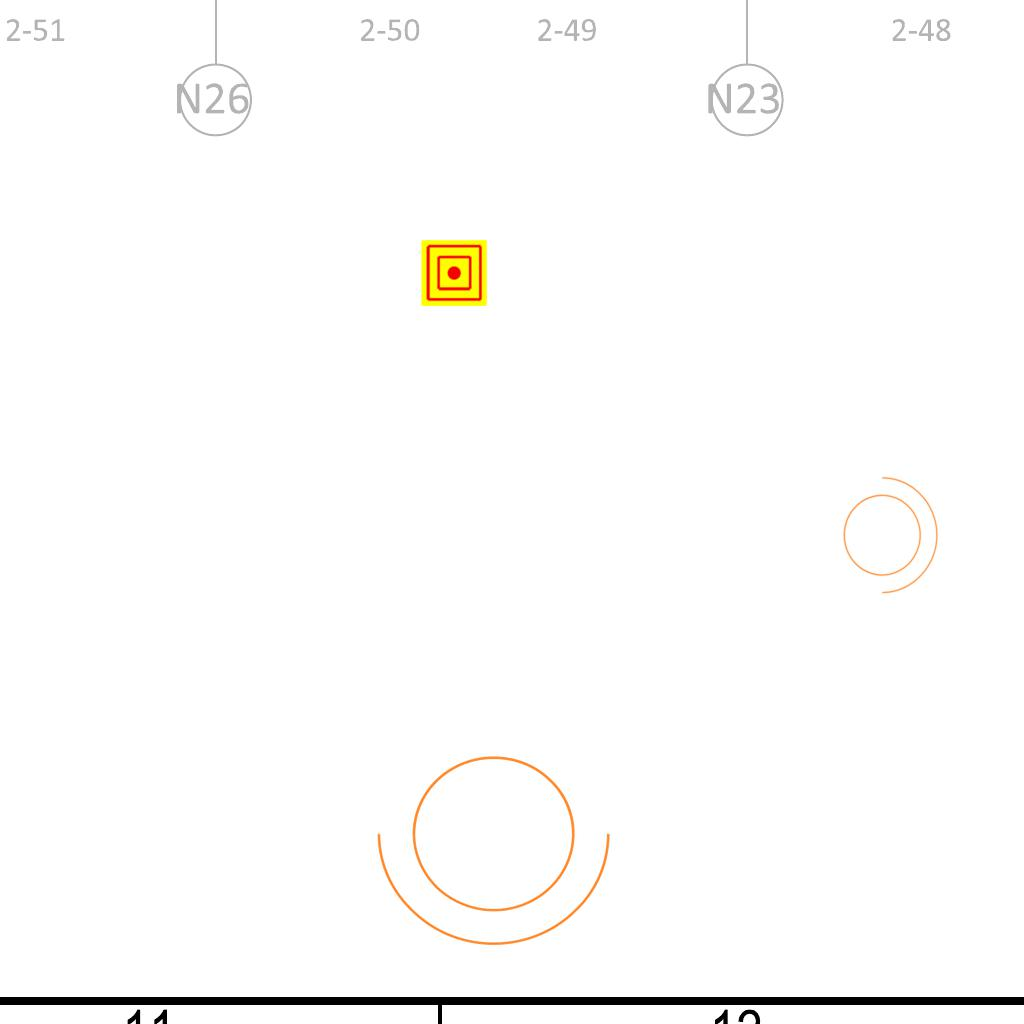NAM-Nichtautomatischer_Melder: (421, 240, 487, 306)
Scheinwerfer_fuer_Alarmbeleuchtung: (368, 731, 632, 956), (831, 466, 943, 598)
